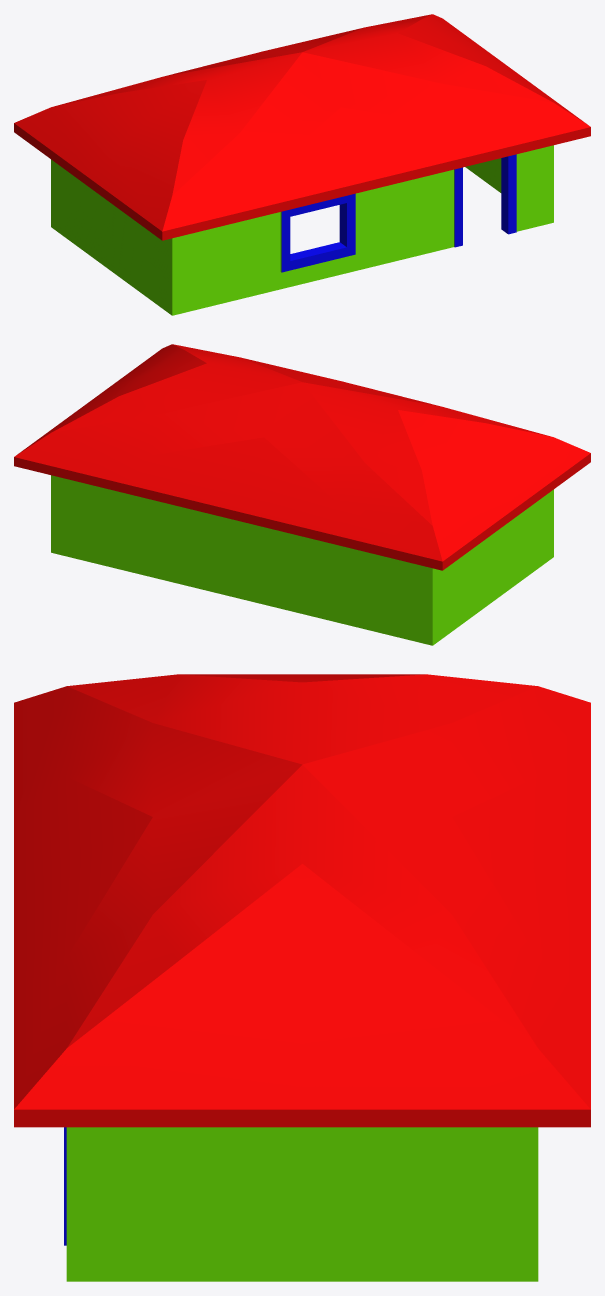
Rendered from house2.fbx.
3 renders of one model, top to bottom at view 1: azimuth 30°, elevation 25°; view 2: azimuth 150°, elevation 25°; view 3: azimuth 270°, elevation 25°, orthographic. The views are drawn at different scales.
Visible parts, largest first — view 1: polySurface2, polySurface2.001, polySurface2.002; view 2: polySurface2, polySurface2.001; view 3: polySurface2, polySurface2.001.
Part boxes in pixels (box(x1,y1,x2,y2)): polySurface2: box(14, 14, 590, 240); polySurface2.001: box(51, 145, 553, 315); polySurface2.002: box(281, 154, 516, 272); polySurface2: box(14, 344, 590, 570); polySurface2.001: box(51, 475, 553, 645); polySurface2: box(14, 674, 590, 1127); polySurface2.001: box(66, 1127, 538, 1281).
Size of the model in its own units: 22.46 by 8.65 by 13.46.
